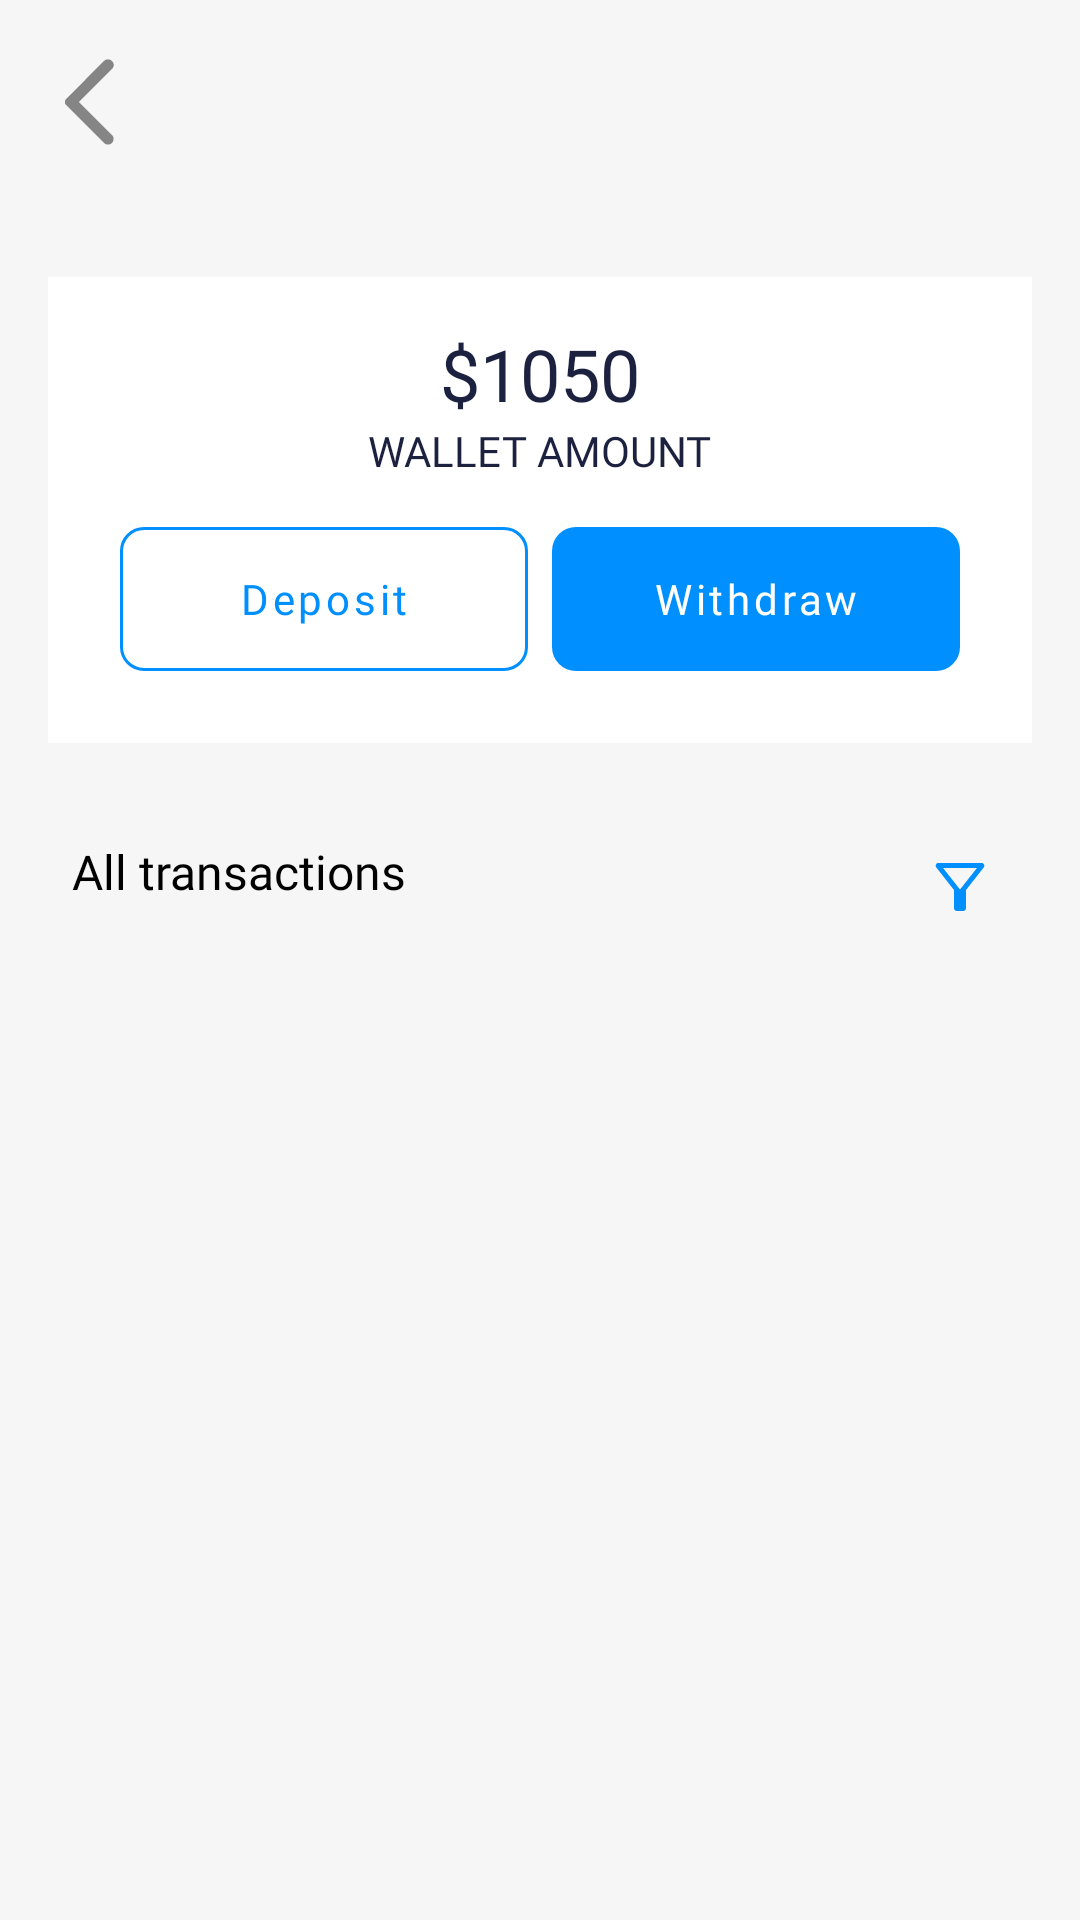

Icon click points for this 1080×1920 phone screenshot, format [x,y]:
back: [89,102]
filter: [960,887]
